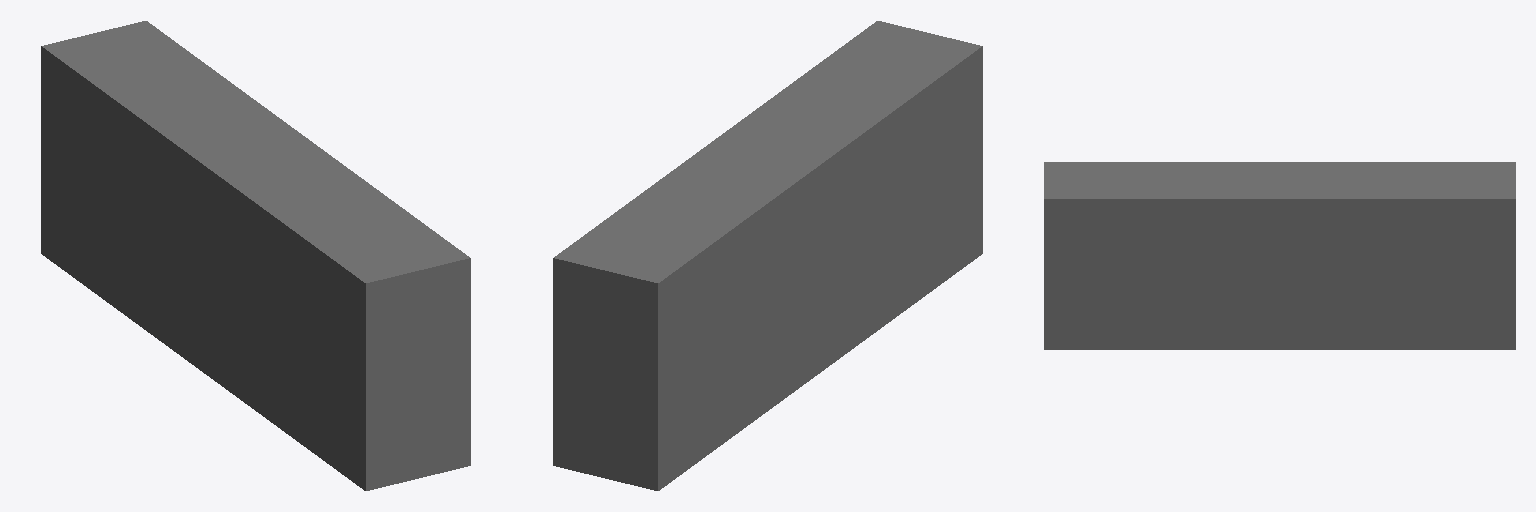
The robot description file, URDF, robot "realsense_r410_standalone":
<?xml version="1.0" ?>
<!-- =================================================================================== -->
<!-- |    This document was autogenerated by xacro from robots/sensors/realsense/r410/default/model/model.xacro | -->
<!-- |    EDITING THIS FILE BY HAND IS NOT RECOMMENDED                                 | -->
<!-- =================================================================================== -->
<robot name="realsense_r410_standalone">
  <mujoco>
    <compiler discardvisual="false" fusestatic="false"/>
  </mujoco>
  <material name="aluminum">
    <color rgba="0.5 0.5 0.5 1"/>
  </material>
  <material name="plastic">
    <color rgba="0.1 0.1 0.1 1"/>
  </material>
  <link name="realsense_r410_mount"/>
  <!-- camera body, with origin at bottom screw mount -->
  <joint name="camera_joint" type="fixed">
    <origin rpy="0 0 0" xyz="0 0 0"/>
    <parent link="realsense_r410_mount"/>
    <child link="camera_link"/>
  </joint>
  <link name="camera_link">
    <visual>
      <origin rpy="1.5707963267948966 0 1.5707963267948966" xyz="0 -0.0375 0.0175"/>
      <geometry>
        <box size="0.099 0.035 0.0185"/>
        <!--<mesh filename="../meshes/raw/r410/r410.dae" />-->
      </geometry>
      <material name="aluminum"/>
    </visual>
    <collision>
      <origin rpy="0 0 0" xyz="0.0 0.0 0.0175"/>
      <geometry>
        <box size="0.0185 0.099 0.035"/>
      </geometry>
    </collision>
    <inertial>
      <!-- The following are not reliable values, and should not be used for modeling -->
      <mass value="0.564"/>
      <origin xyz="0 0 0"/>
      <inertia ixx="0.003881243" ixy="0.0" ixz="0.0" iyy="0.000498940" iyz="0.0" izz="0.003879257"/>
    </inertial>
  </link>
  <!-- camera depth joints and links -->
  <joint name="camera_depth_joint" type="fixed">
    <origin rpy="0 0 0" xyz="0.0 -0.0425 0.026"/>
    <parent link="camera_link"/>
    <child link="camera_depth_frame"/>
  </joint>
  <link name="camera_depth_frame"/>
  <joint name="camera_depth_optical_joint" type="fixed">
    <origin rpy="-1.5707963267948966 0 -1.5707963267948966" xyz="0 0 0"/>
    <parent link="camera_depth_frame"/>
    <child link="camera_depth_optical_frame"/>
  </joint>
  <link name="camera_depth_optical_frame"/>
  <!-- camera left IR joints and links -->
  <joint name="camera_infra1_joint" type="fixed">
    <origin rpy="0 0 0" xyz="0 -0.0275 0"/>
    <parent link="camera_depth_frame"/>
    <child link="camera_infra1_frame"/>
  </joint>
  <link name="camera_infra1_frame"/>
  <joint name="camera_infra1_optical_joint" type="fixed">
    <origin rpy="-1.5707963267948966 0 -1.5707963267948966" xyz="0 0 0"/>
    <parent link="camera_infra1_frame"/>
    <child link="camera_infra1_optical_frame"/>
  </joint>
  <link name="camera_infra1_optical_frame"/>
  <!-- camera right IR joints and links -->
  <joint name="camera_infra2_joint" type="fixed">
    <origin rpy="0 0 0" xyz="0 0.0275 0"/>
    <parent link="camera_depth_frame"/>
    <child link="camera_infra2_frame"/>
  </joint>
  <link name="camera_infra2_frame"/>
  <joint name="camera_infra2_optical_joint" type="fixed">
    <origin rpy="-1.5707963267948966 0 -1.5707963267948966" xyz="0 0 0"/>
    <parent link="camera_infra2_frame"/>
    <child link="camera_infra2_optical_frame"/>
  </joint>
  <link name="camera_infra2_optical_frame"/>
</robot>

--- Render facts (derived) ---
Views: 3 orthographic renders of the robot side by side, from view 1: azimuth 30°, elevation 25°; view 2: azimuth 150°, elevation 25°; view 3: azimuth 270°, elevation 25°.
Model realsense_r410_standalone with 8 links and 7 joints (7 fixed), rooted at realsense_r410_mount, posed all joints at 0.
Visible links, largest first — view 1: camera_link; view 2: camera_link; view 3: camera_link.
Link boxes in pixels (x1,y1,x2,y2): camera_link: [41, 21, 470, 490]; camera_link: [553, 21, 982, 490]; camera_link: [1044, 162, 1515, 349].
Size in the robot's own frame: 0.0185 by 0.099 by 0.035 metres.
Geometry: primitives only (box / cylinder / sphere), no mesh files.
